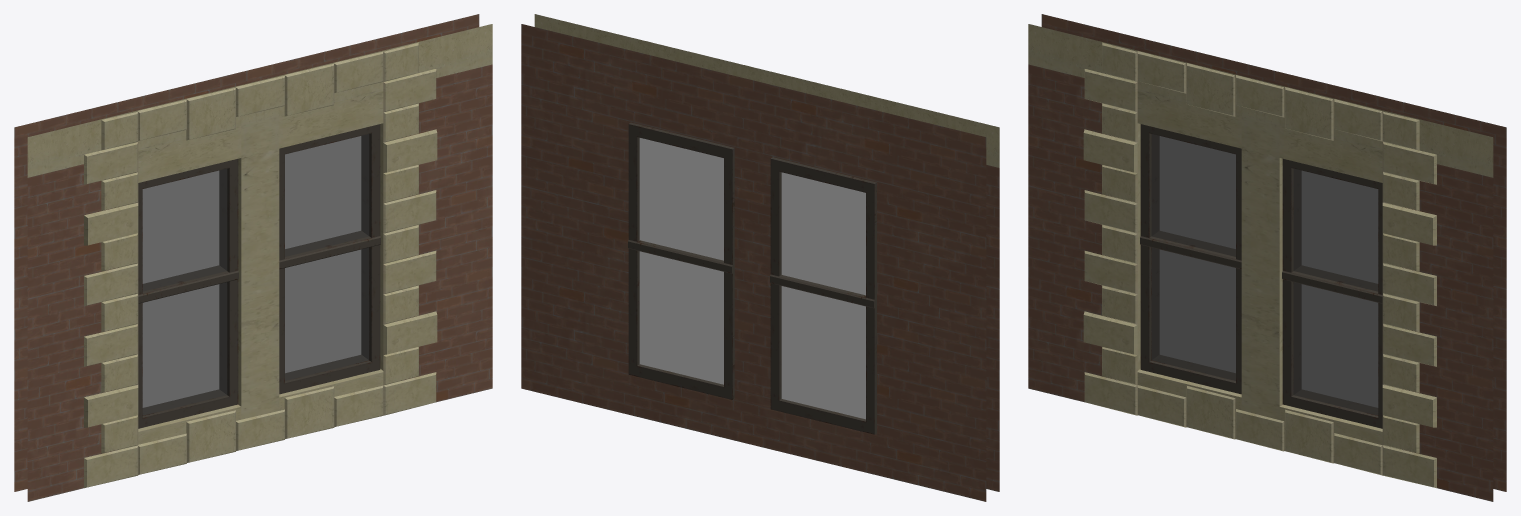
The model's file is Brick_RedWhite_DoubleWindow.glb.
3 views of the same model, side by side, from view 1: azimuth 30°, elevation 25°; view 2: azimuth 150°, elevation 25°; view 3: azimuth 330°, elevation 25° (orthographic).
Parts seen in each view (by area): view 1: Brick_RedWhite_DoubleWindow; view 2: Brick_RedWhite_DoubleWindow; view 3: Brick_RedWhite_DoubleWindow.
Boxes of the visible parts, x1=… form: Brick_RedWhite_DoubleWindow: x1=14, y1=14, x2=492, y2=501; Brick_RedWhite_DoubleWindow: x1=521, y1=14, x2=999, y2=501; Brick_RedWhite_DoubleWindow: x1=1028, y1=14, x2=1506, y2=501.
Bounding box in the file's own units: 4 × 3 × 0.2774.
Materials: 5 (3 with a texture image).
